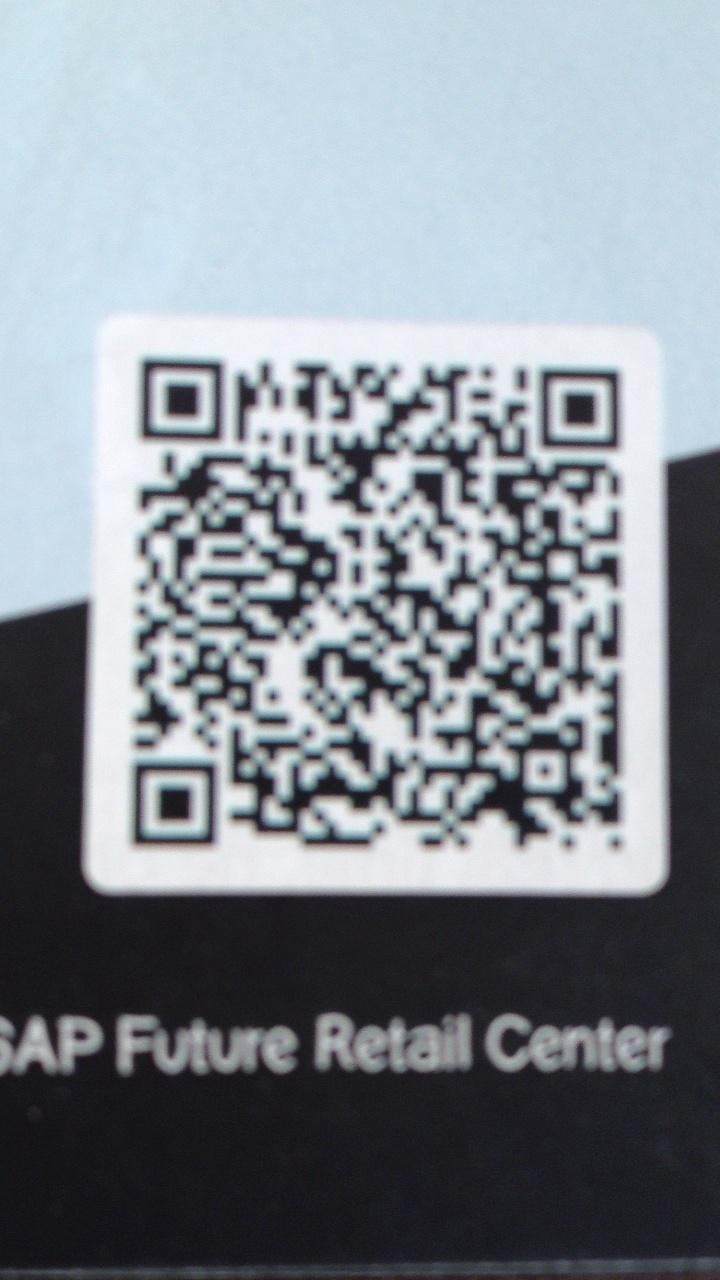Finder pattern: (125, 749, 226, 857), (130, 349, 232, 450), (529, 357, 629, 459)
